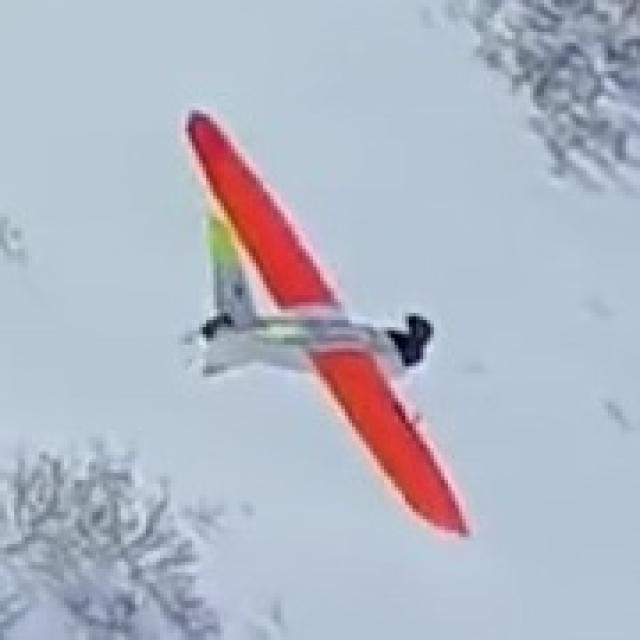iha: (106, 39, 402, 469)
